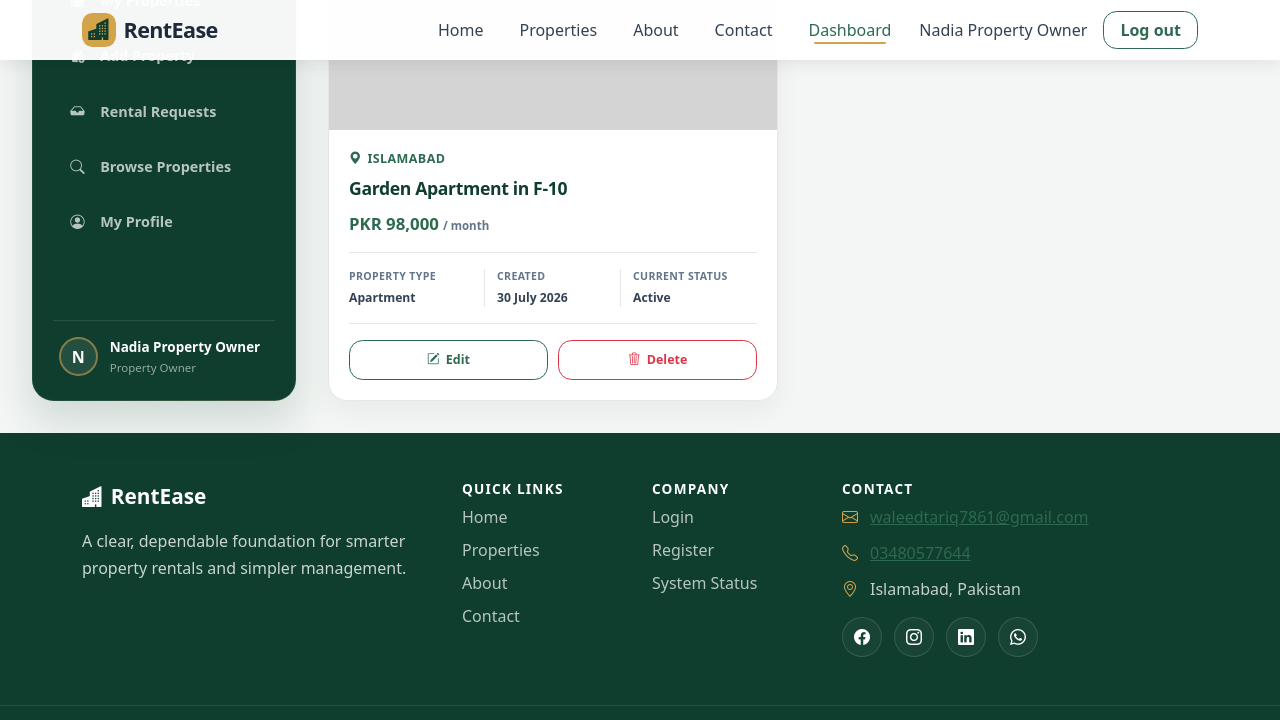
Test case: Phase 2 Day 5 property management › requires confirmation before deleting and refreshes the dashboard afterward
(page scrolled)
Expected: the heading "Garden Apartment in F-10" is shown, [349,176,567,200]
Click the button "Delete".
click(658, 360)  # box [558,340,757,380]
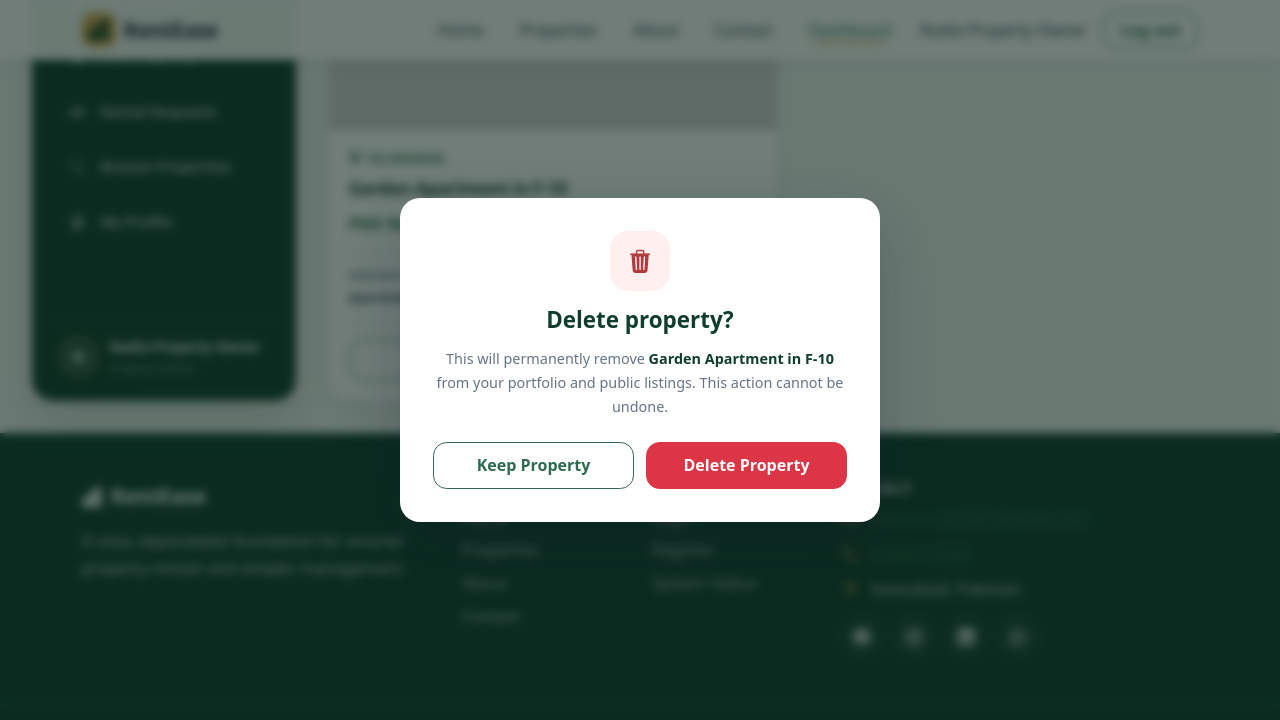
Expected: the dialog is shown, [400,198,880,522]
Click the button "Keep Property".
click(534, 466)  # box [433,442,634,489]
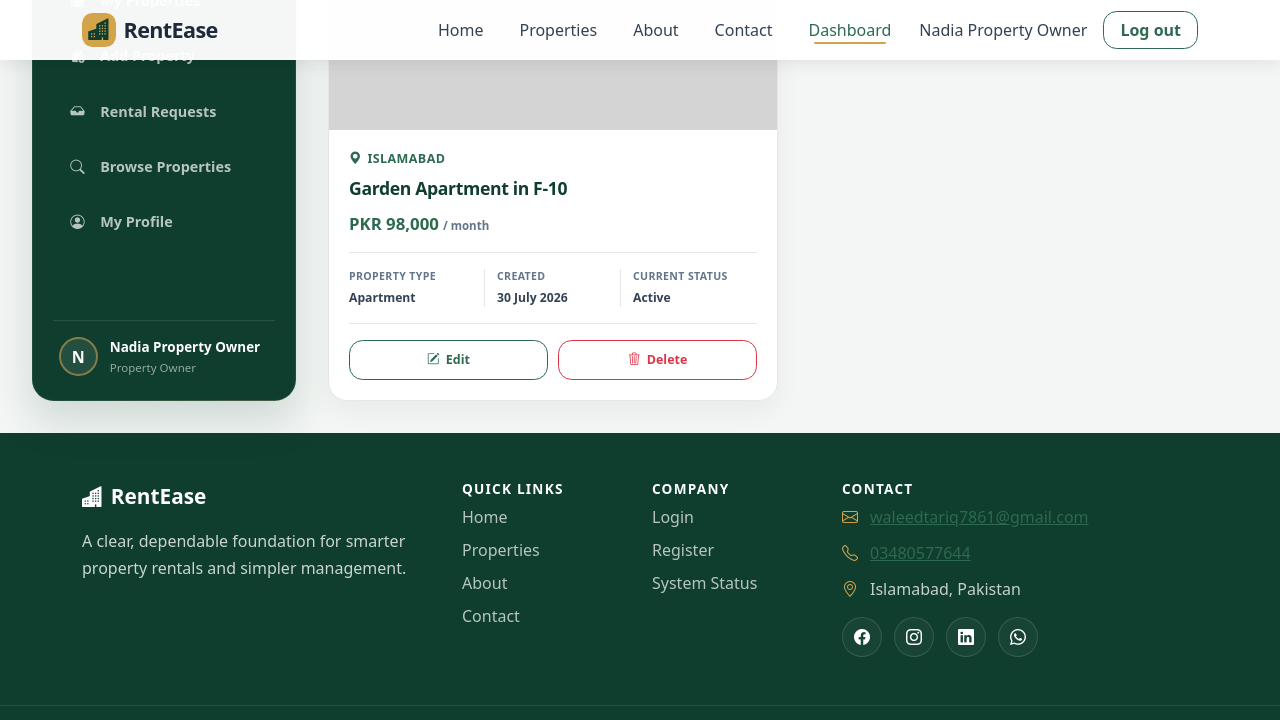
Expected: the dialog is gone
Click the button "Delete".
click(658, 360)  # box [558,340,757,380]
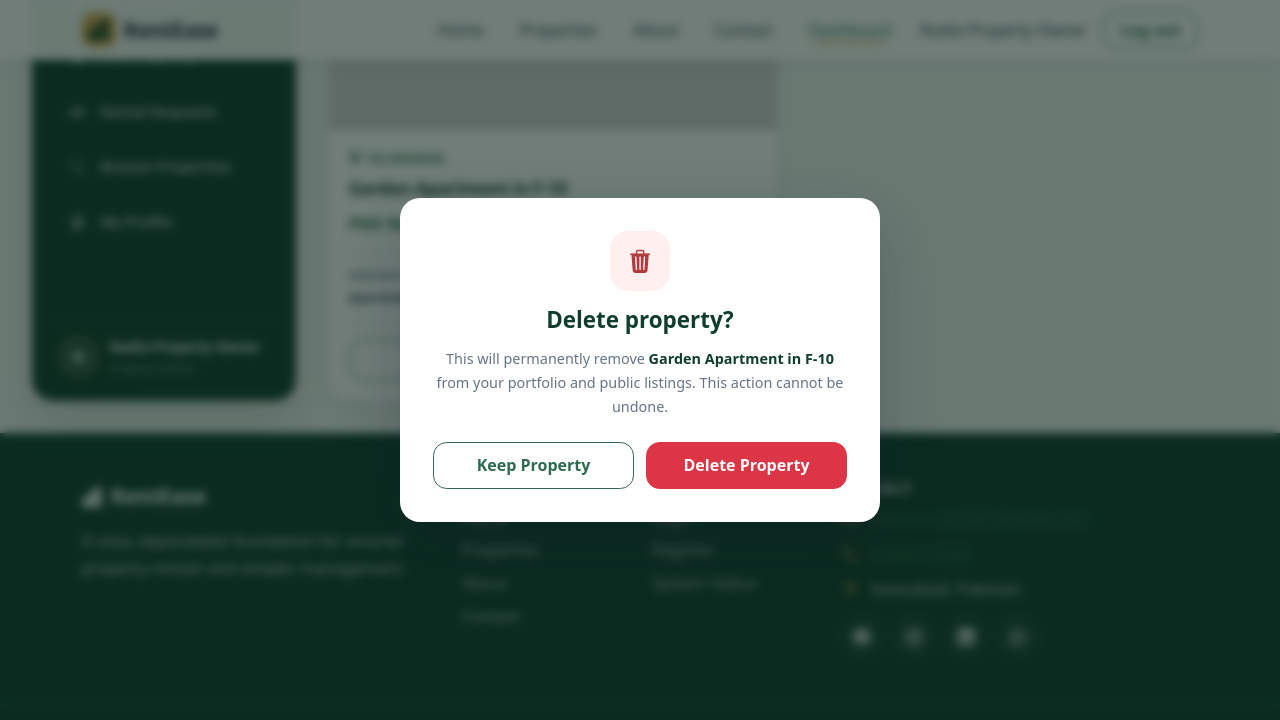
Click the button "Delete Property".
click(746, 466)  # box [646,442,847,489]
(page scrolled)
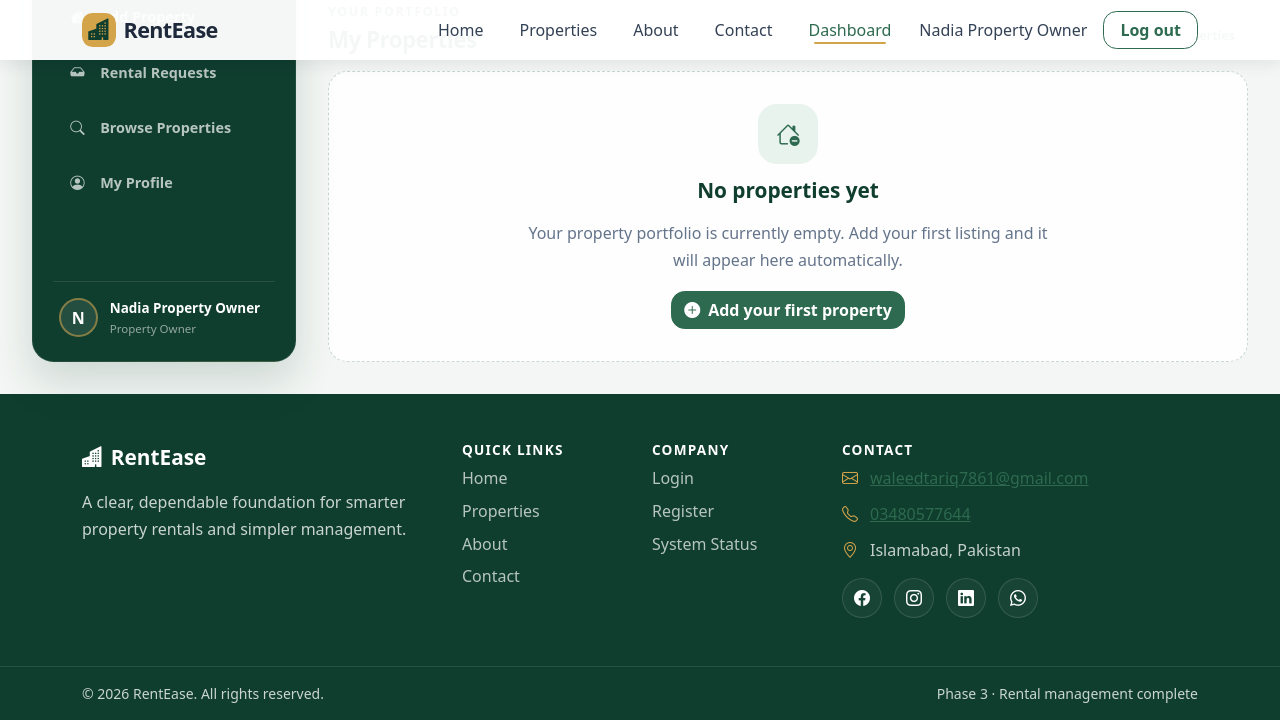
Expected: the heading "No properties yet" is shown, [697,178,879,203]
